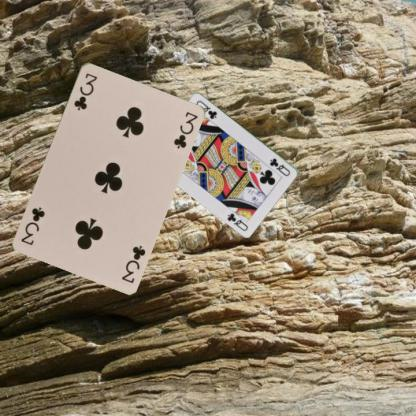3c: (118, 242, 147, 284), (71, 70, 99, 111)
Qc: (267, 156, 292, 178)
